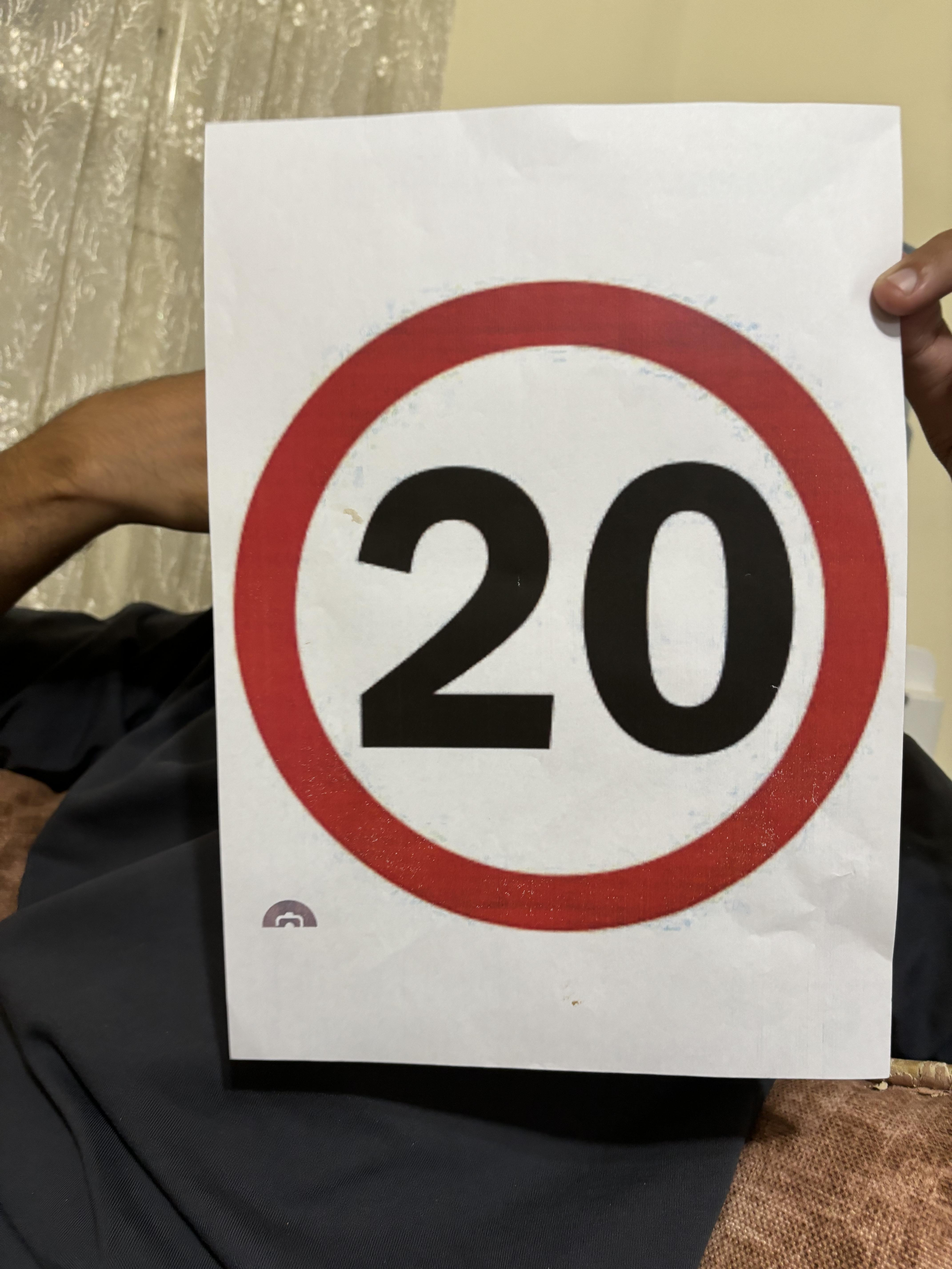20-Speed: (232, 265, 900, 940)
